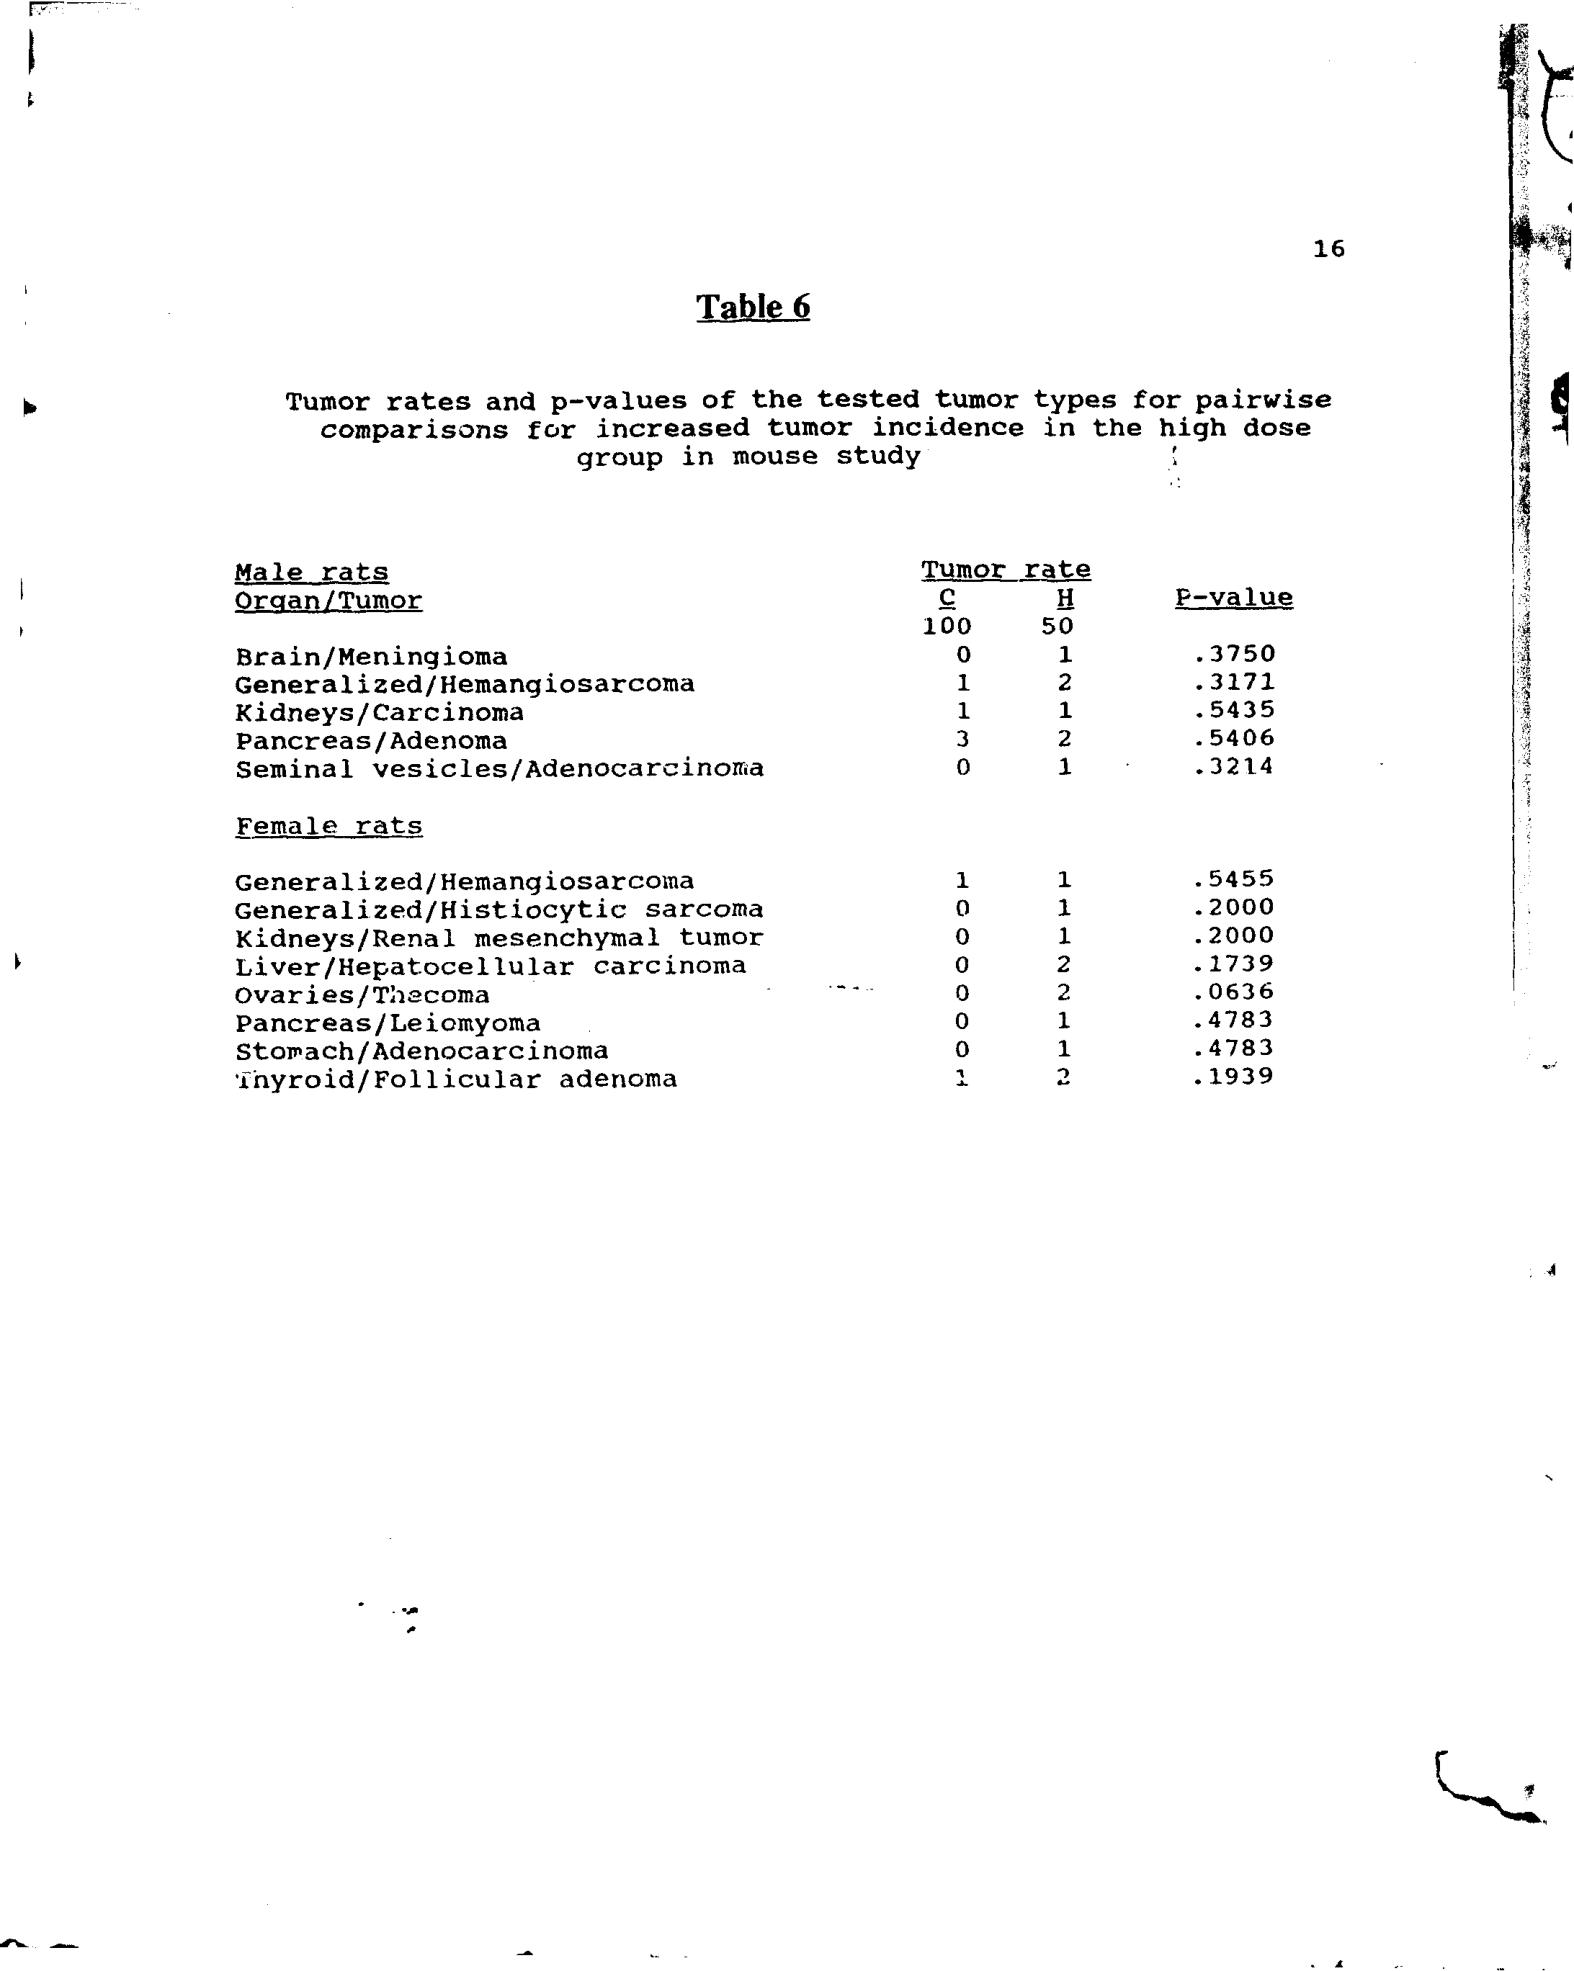nolines: (228, 556, 1295, 1092)
